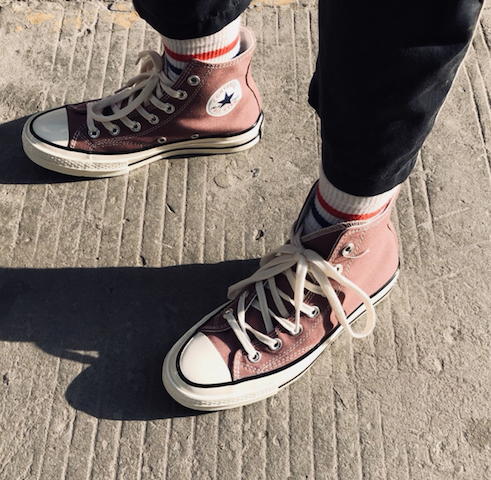shoes: (27, 56, 444, 418)
